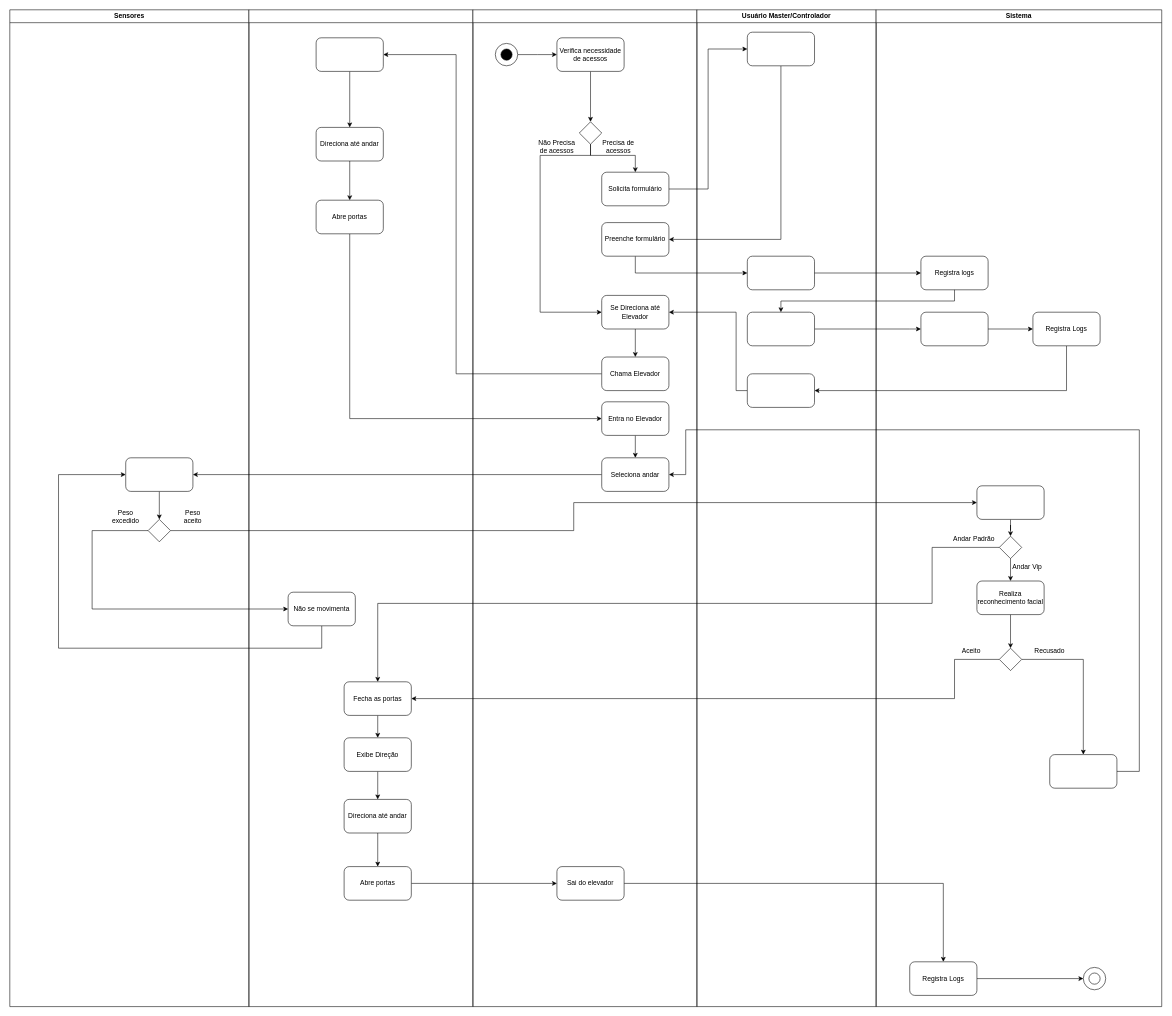
This 1172x1016 diagram has some shape labels left out. Each missing label, with the box of its shape:
Desativa andar selecionado: (1049, 754, 1117, 788)
Elevador: (248, 9, 473, 1007)
Envia ao sistema: (747, 312, 815, 346)
Envia formulário: (747, 32, 815, 66)
Fecha portas: (316, 37, 383, 71)
Informa Passageiro: (747, 373, 815, 407)
Passageiro: (472, 9, 697, 1007)
Realiza login: (747, 256, 815, 290)
Realiza validação: (920, 312, 988, 346)
Verifica Andar VIP: (976, 485, 1044, 519)
Verifica Peso: (125, 457, 193, 491)
